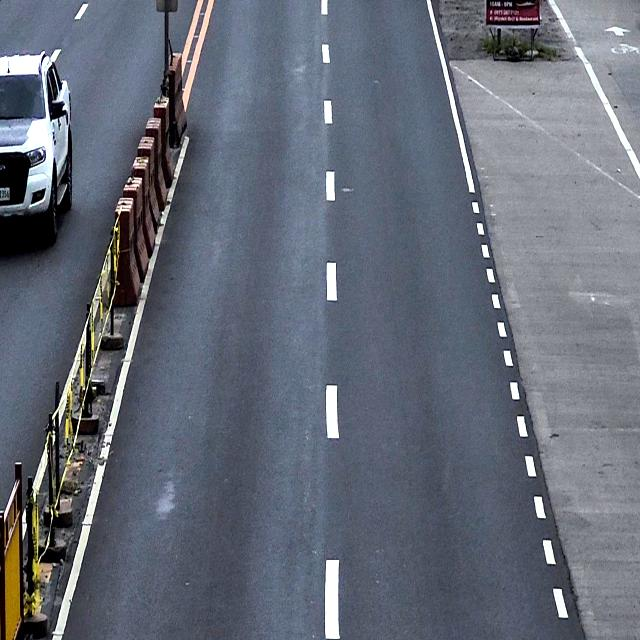Car: (0, 49, 73, 244)
License-Plate: (0, 185, 11, 202)
